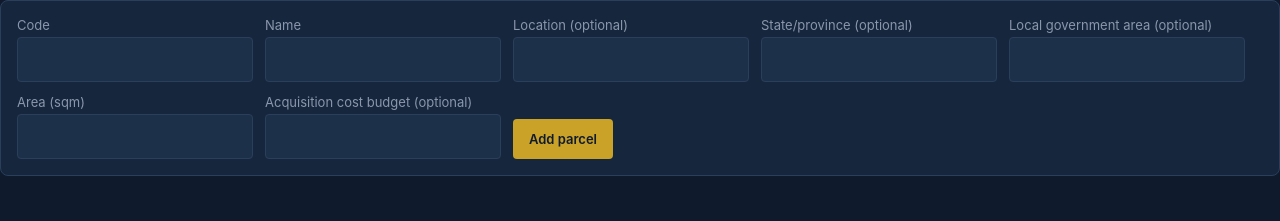
Test: CreateParcelForm › shows the action-returned error message and does not reset the fields on failure
In the field labelled "Code": coordinates (135, 60) 17,37 -> 253,82, type "LP-001"
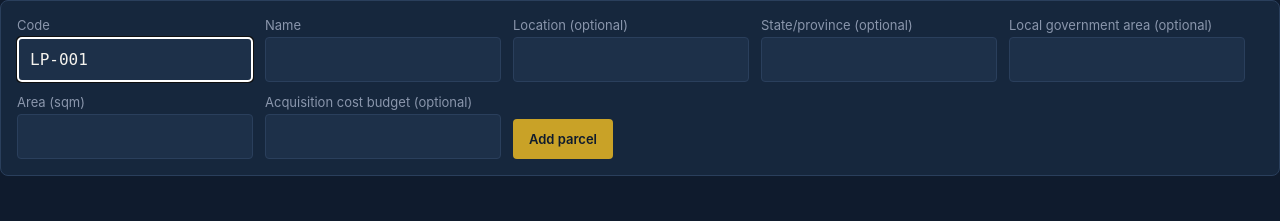
In the field labelled "Name": coordinates (383, 60) 265,37 -> 501,82, type "Riverside Parcel A"
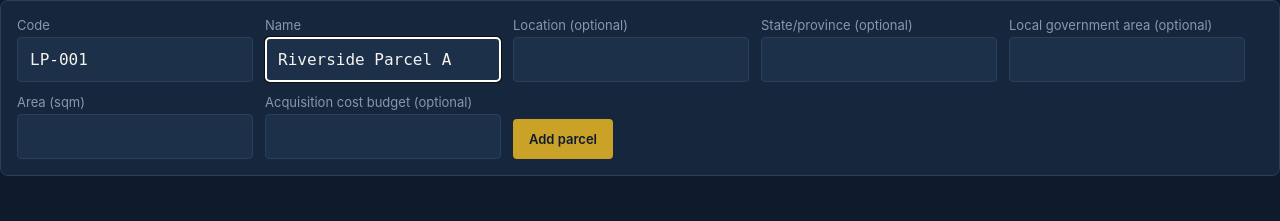
In the number field labelled "Area (sqm)": coordinates (135, 136) 17,114 -> 253,159, type "50000"
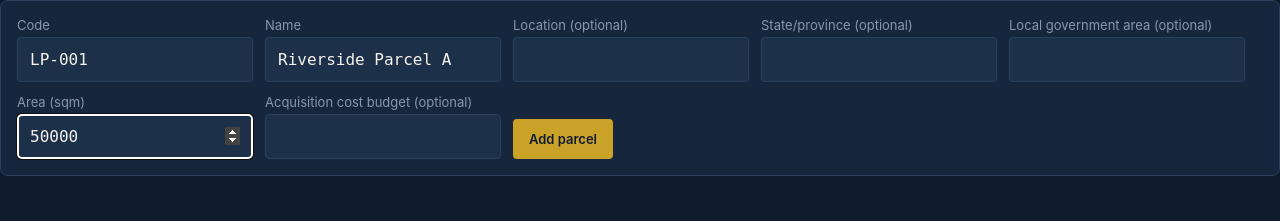
Click the button "Add parcel": coordinates (563, 139) 513,119 -> 613,159
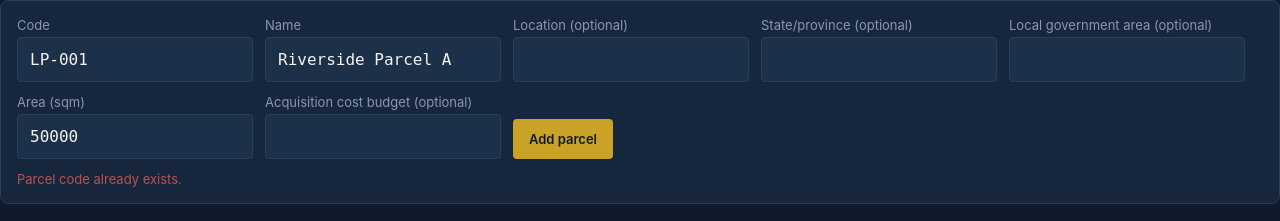
Check: the text "Parcel code already exists." is shown, box 17,171 -> 182,187
